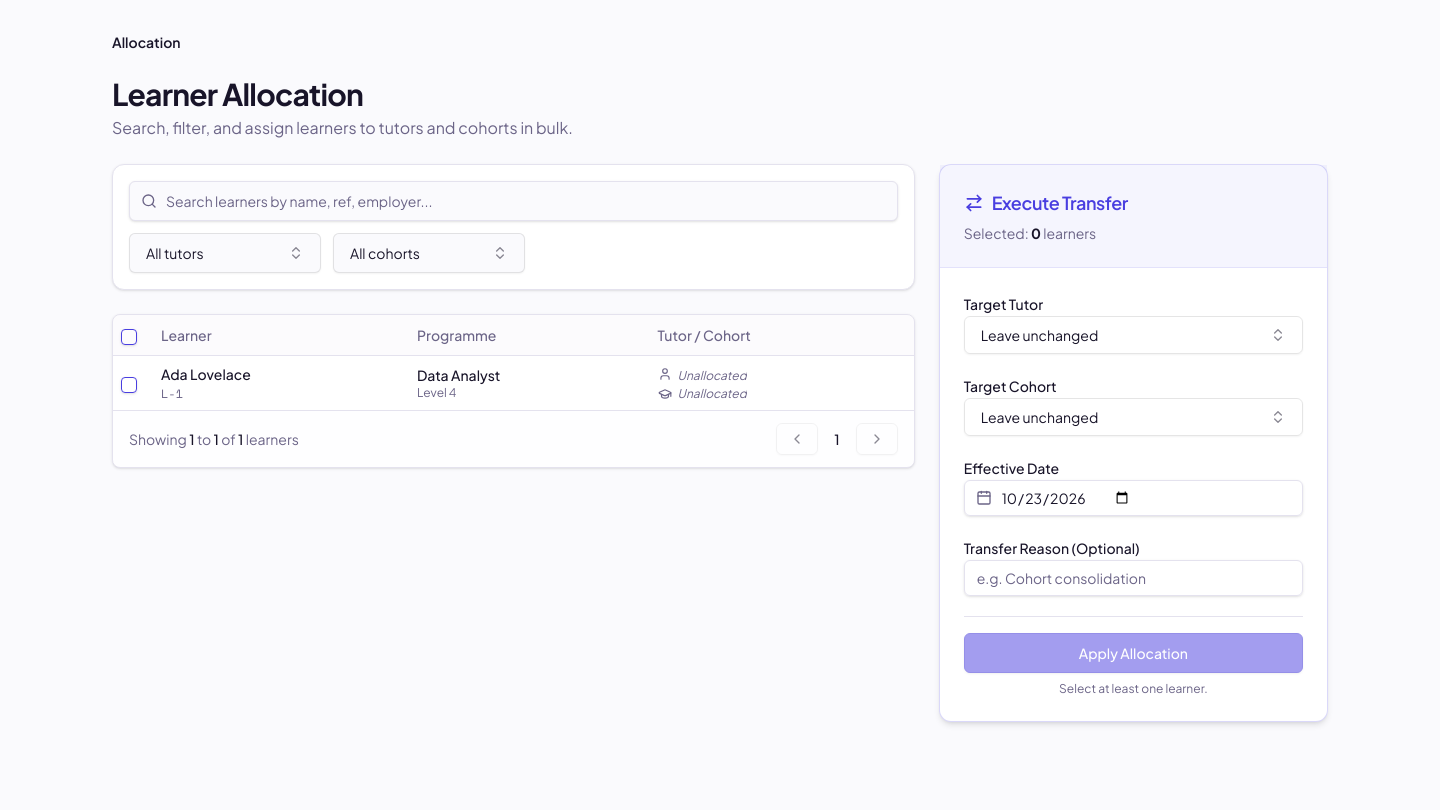
Test: AllocationPage › shows every home cohort in the target picker when no target tutor is chosen
The width and height of the screenshot is (1440, 810).
What coordinates should you click on to do the following:
click the dropdown named "target cohort"
I would click on:
 (1039, 417)
Its box is [964, 398, 1303, 436].
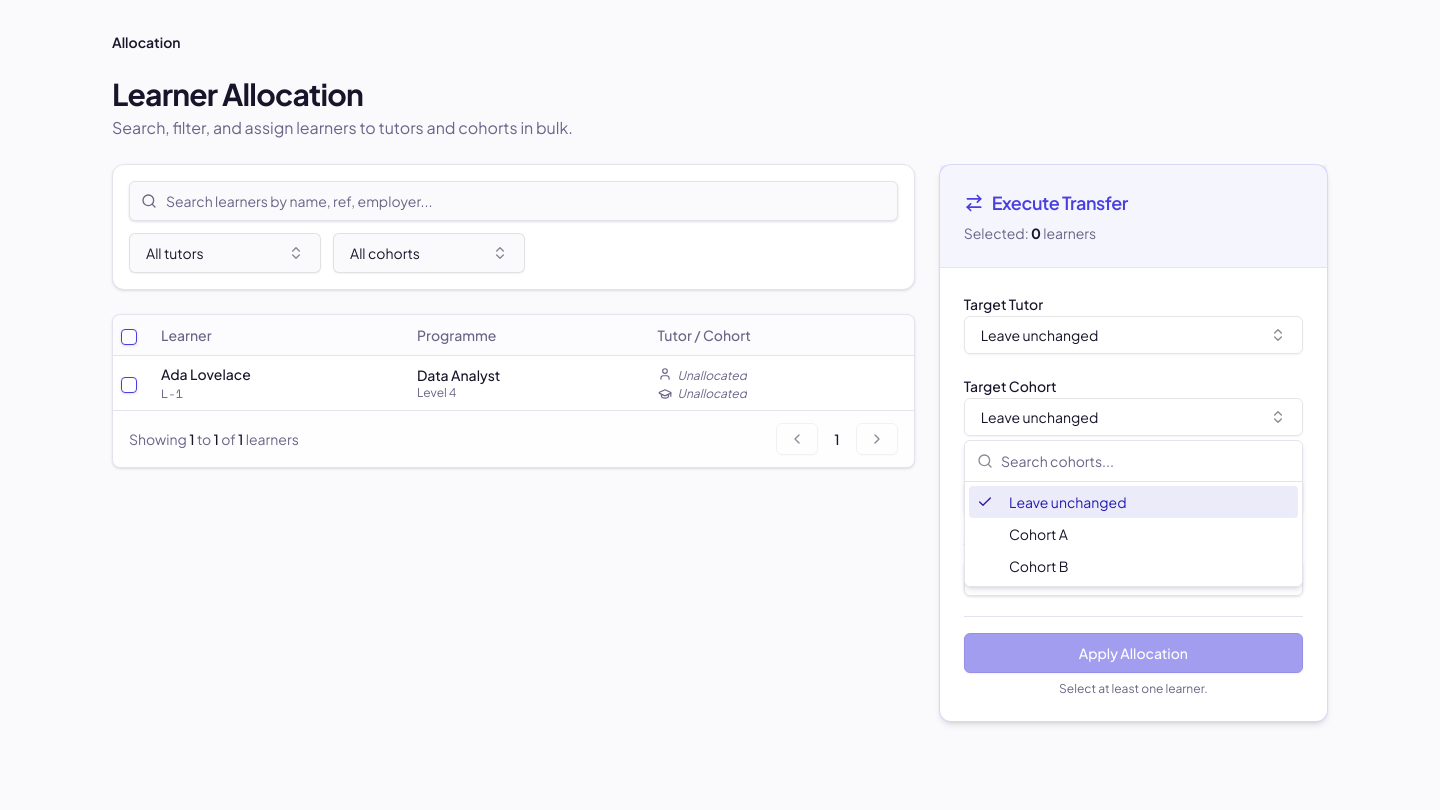
Check: the option "Cohort A" is shown, box [1009, 525, 1068, 543]
Check: the option "Cohort B" is shown, box [1009, 557, 1068, 575]
